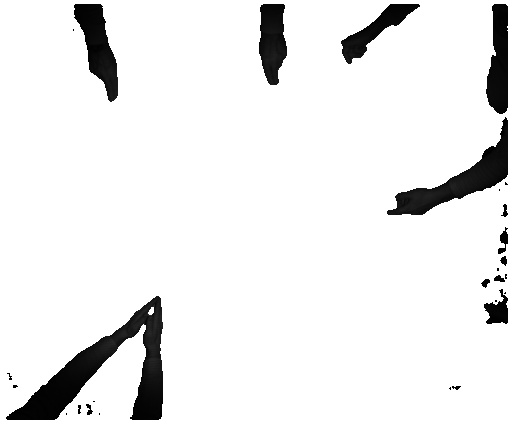fist: (336, 34, 371, 63)
hand: (80, 52, 119, 103), (384, 184, 438, 215), (256, 38, 287, 87)
spine: (112, 299, 156, 343), (146, 297, 167, 355)
